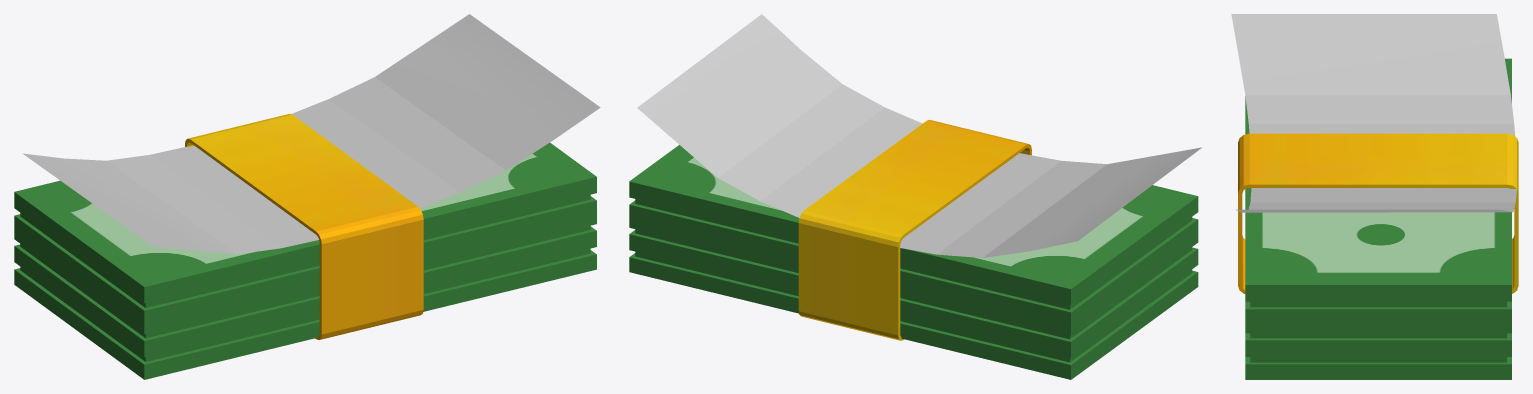
The model's file is moneyyyy.fbx.
3 views of the same model, side by side, from view 1: azimuth 30°, elevation 25°; view 2: azimuth 150°, elevation 25°; view 3: azimuth 270°, elevation 25° (orthographic). The views are drawn at different scales.
Parts seen in each view (by area): view 1: Plane.005, MONEY 2, Plane.006; view 2: Plane.005, MONEY 2, Plane.006; view 3: Plane.005, MONEY 2, Plane.006.
Boxes of the visible parts, box(x1,y1,x2,y2) form: Plane.005: box(14, 143, 596, 379); MONEY 2: box(22, 14, 600, 254); Plane.006: box(185, 113, 423, 339); Plane.005: box(629, 145, 1198, 379); MONEY 2: box(637, 14, 1201, 257); Plane.006: box(798, 119, 1031, 340); Plane.005: box(1245, 58, 1511, 379); MONEY 2: box(1231, 14, 1516, 212); Plane.006: box(1238, 133, 1518, 293).
Bounding box in the file's own units: 250 × 89.33 × 134.
